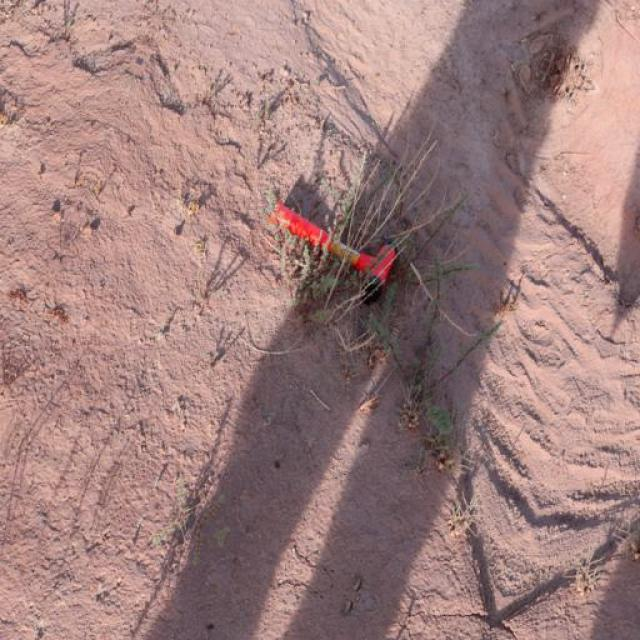mallet: (264, 196, 398, 304)
